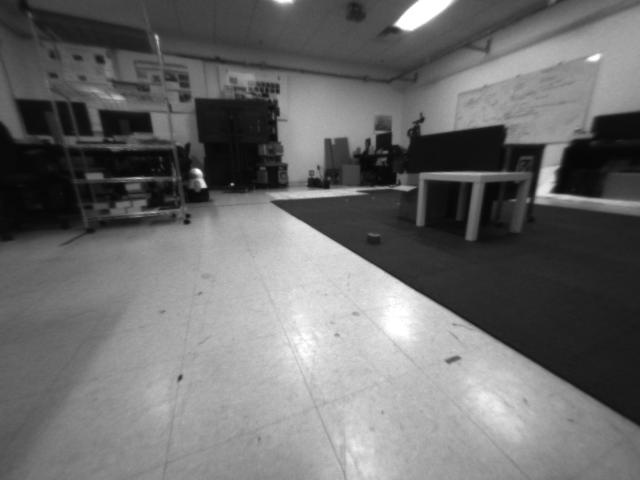dogtoy: (357, 222, 393, 252)
